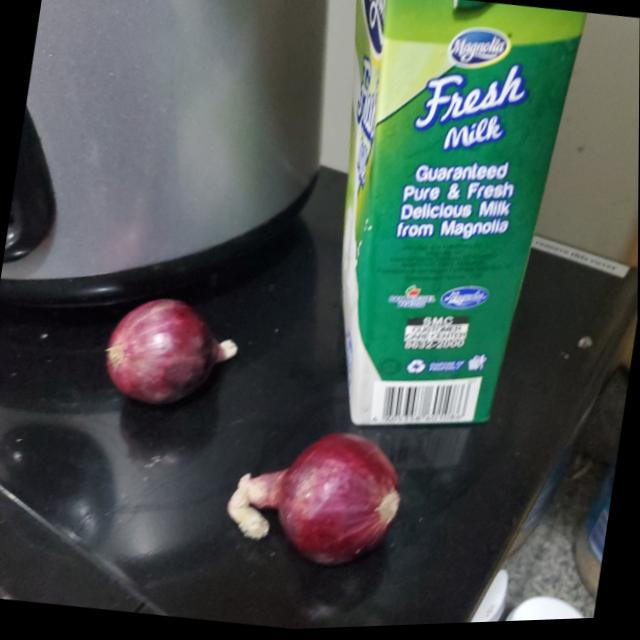milk: (292, 0, 587, 449)
onion: (231, 422, 411, 573), (102, 288, 243, 406)
